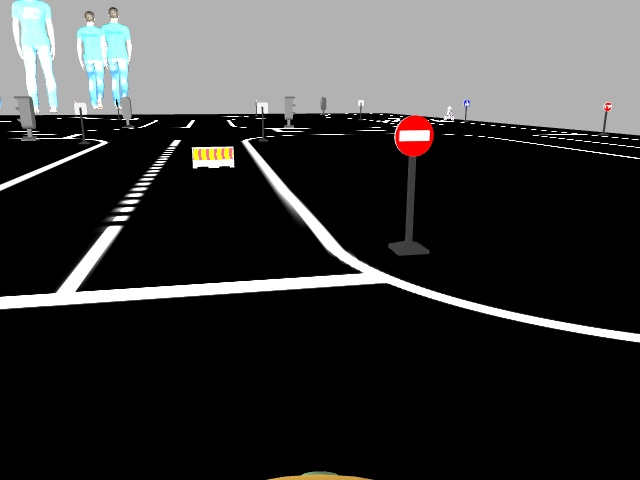ClosedRoadStand: (192, 146, 234, 166)
NoEntry: (396, 117, 433, 153)
